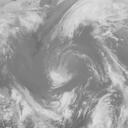cyclone: (41, 49, 73, 88)
